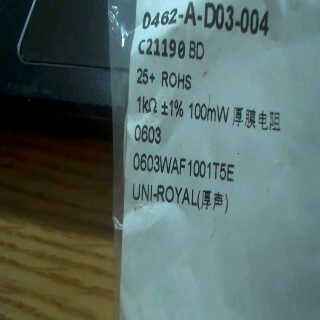1kR: (134, 92, 159, 118)
